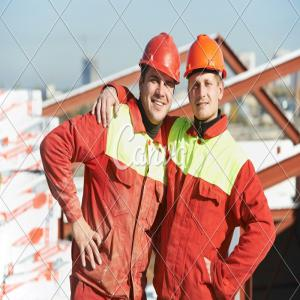red: (140, 34, 181, 124), (186, 35, 227, 122)
